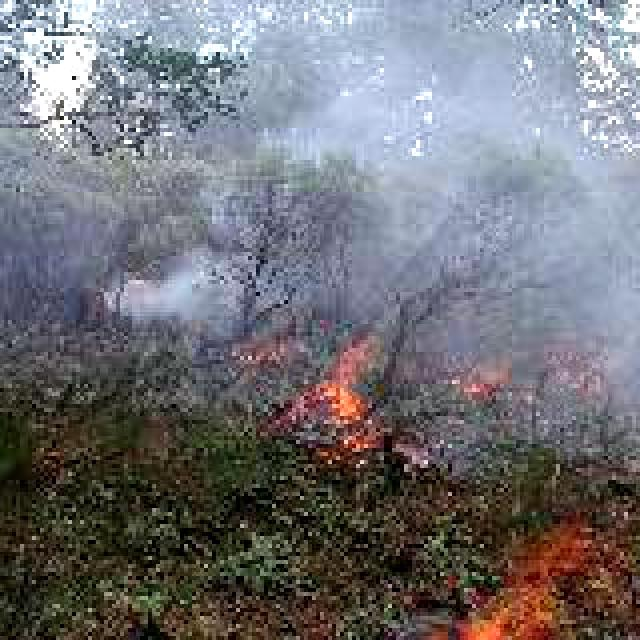smoke: (244, 0, 640, 328), (88, 212, 240, 340)
